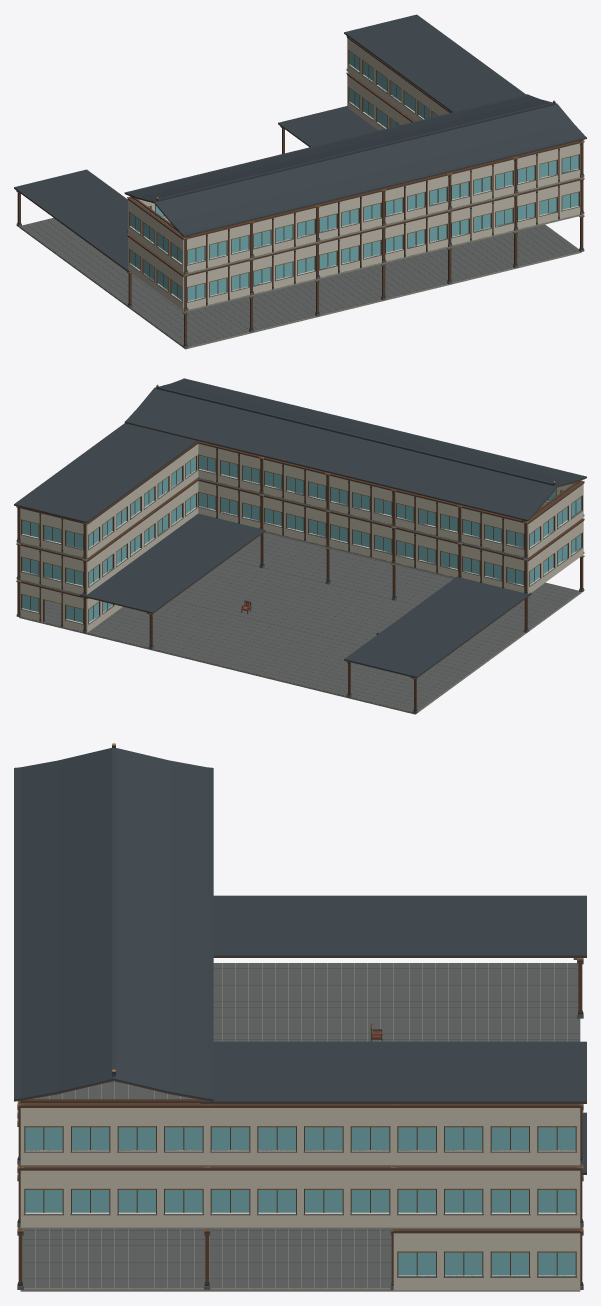
Rendered from visual-far.glb.
3 renders of one model, top to bottom at view 1: azimuth 30°, elevation 25°; view 2: azimuth 150°, elevation 25°; view 3: azimuth 270°, elevation 25°, orthographic. The views are drawn at different scales.
Parts seen in each view (by area): view 1: 参数墙 · 独立窗玻璃 (×17), 连续屋面 · gable, 石铺面与混凝土楼板 (×8), 连续屋面 · flat (×3); view 2: 参数墙 · 独立窗玻璃 (×19), 石铺面与混凝土楼板 (×16), 连续屋面 · flat (×3), 连续屋面 · gable, 参数墙 · 通行门洞; view 3: 参数墙 · 独立窗玻璃 (×7), 连续屋面 · gable, 石铺面与混凝土楼板 (×9), 连续屋面 · flat (×2).
Boxes of the visible parts, <box> form: 参数墙 · 独立窗玻璃 (×17): <box>127,36,580,310</box>; 连续屋面 · gable: <box>124,94,586,237</box>; 石铺面与混凝土楼板 (×8): <box>19,218,581,349</box>; 连续屋面 · flat (×3): <box>14,14,525,272</box>; 参数墙 · 独立窗玻璃 (×19): <box>19,441,584,632</box>; 石铺面与混凝土楼板 (×16): <box>19,532,581,714</box>; 连续屋面 · flat (×3): <box>14,423,531,678</box>; 连续屋面 · gable: <box>124,378,586,521</box>; 参数墙 · 通行门洞: <box>20,581,83,631</box>; 参数墙 · 独立窗玻璃 (×7): <box>20,1103,580,1290</box>; 连续屋面 · gable: <box>14,743,213,1102</box>; 石铺面与混凝土楼板 (×9): <box>20,963,580,1291</box>; 连续屋面 · flat (×2): <box>200,895,586,1103</box>.
Bounding box in the file's own units: 47.6 × 14.88 × 34.8.
Materials: 15 (15 with a texture image).
